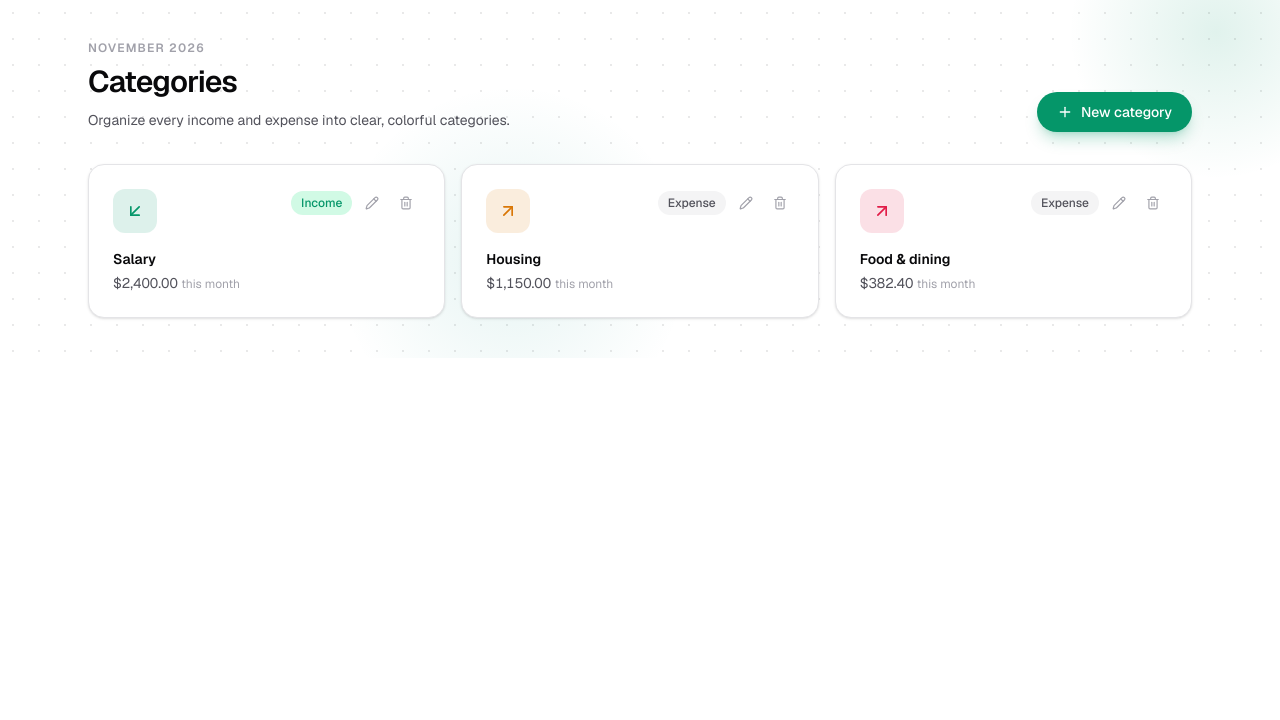
Test case: CategoriesView › keeps the category when the delete is backed out of
Click the button named "Delete Food & dining" at (1153, 203), box [1139,189,1167,217]
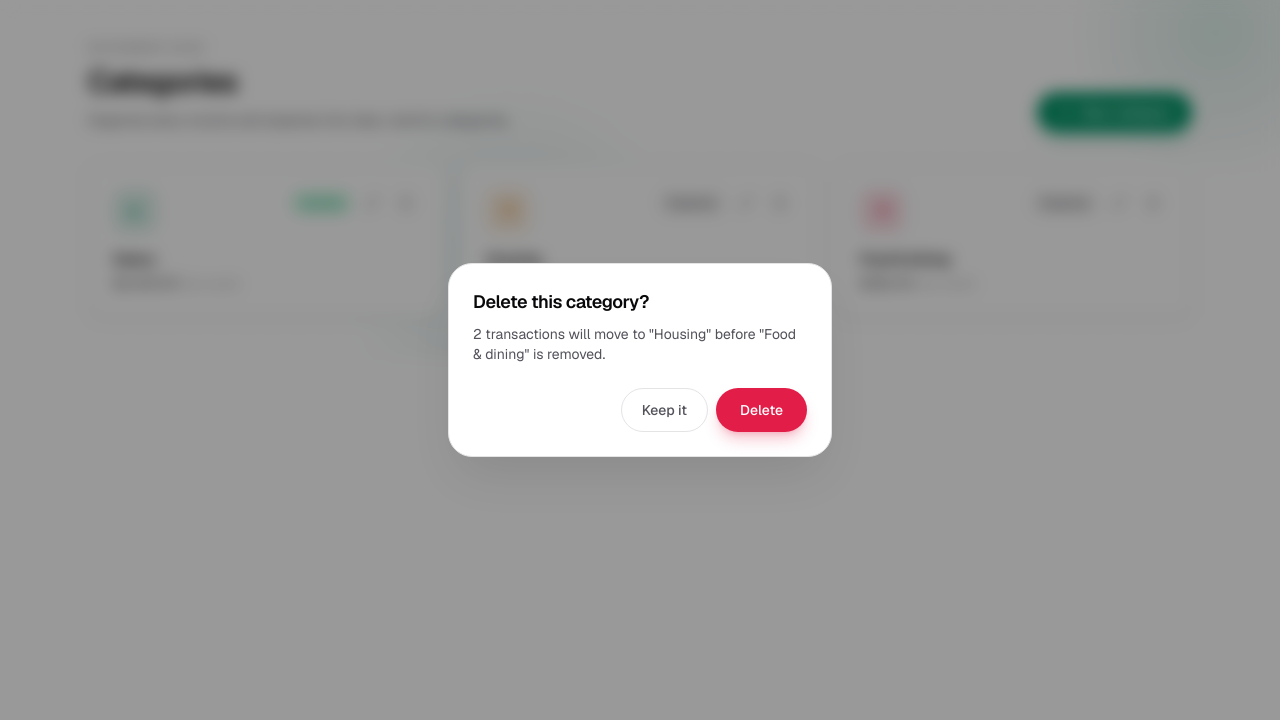
Click the button "Keep it" at (664, 410), box [621,388,708,432]
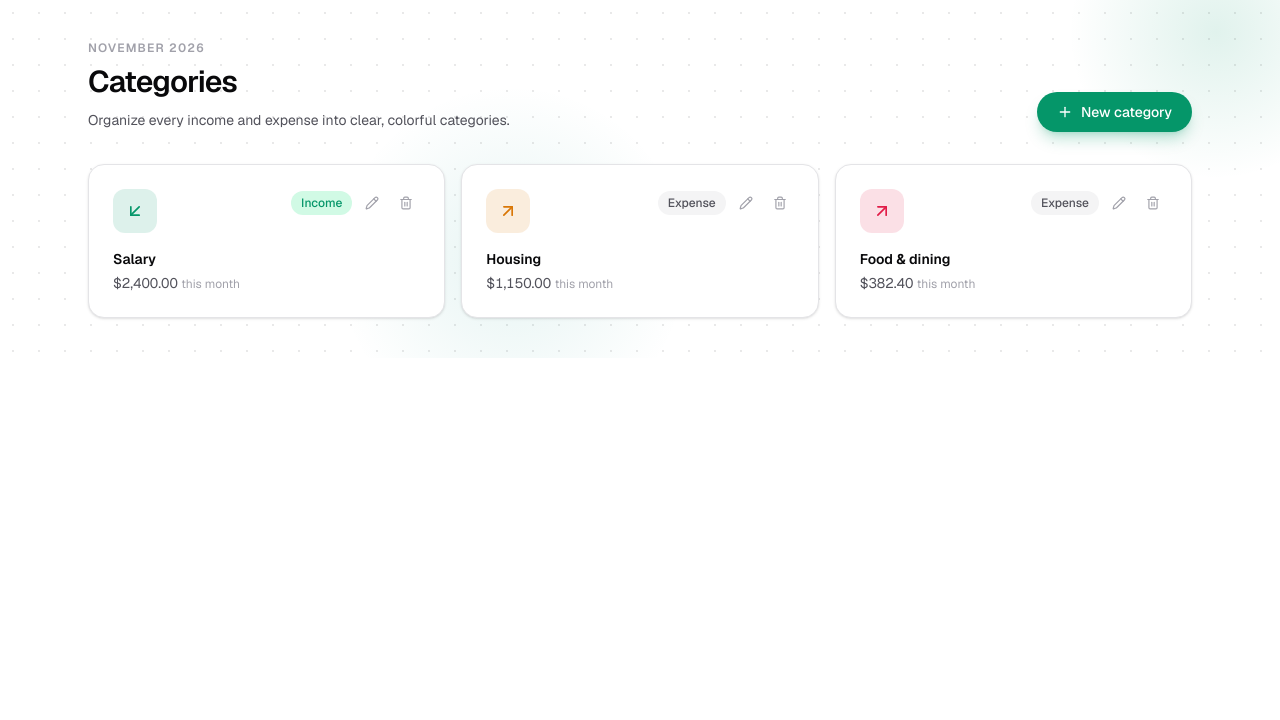
Expected: the heading "Food & dining" is shown, [860,250,950,268]
Expected: the dialog is gone
